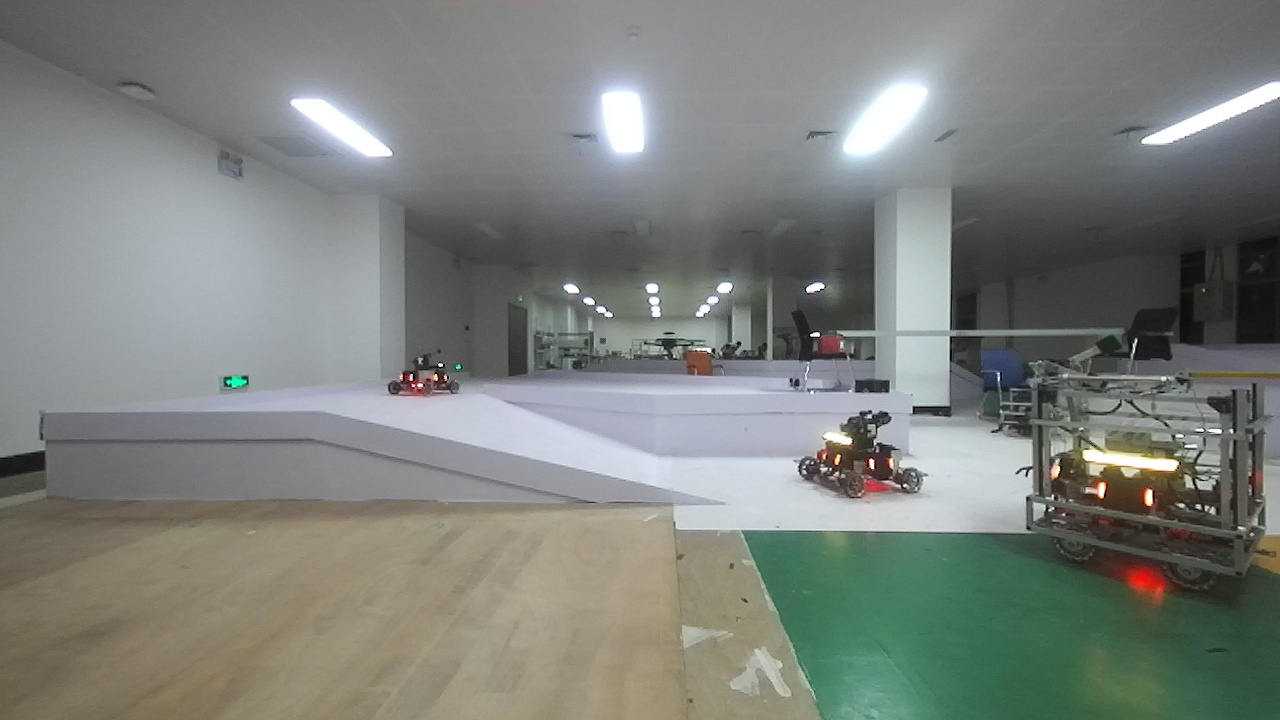car: (1011, 361, 1279, 590), (785, 402, 936, 515), (367, 329, 471, 408)
